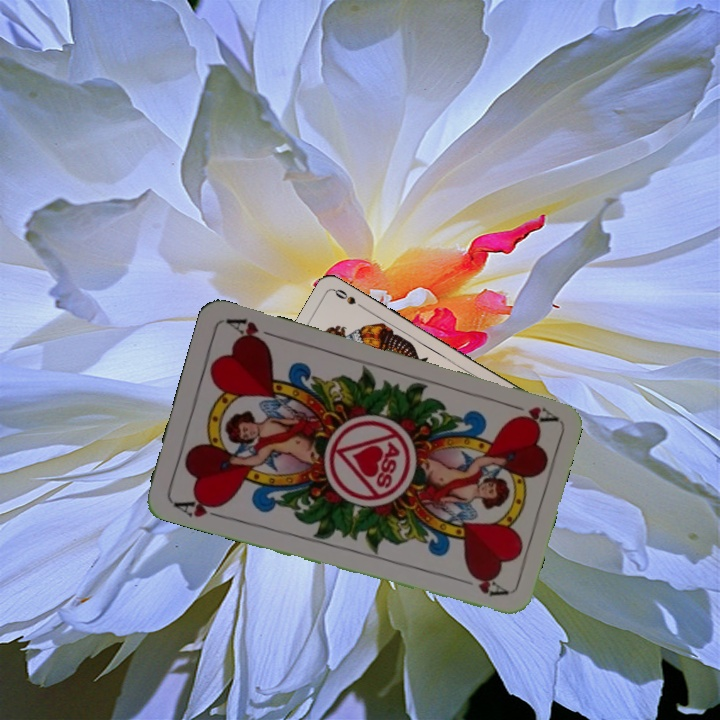HA: (169, 492, 227, 522), (500, 398, 558, 427)
